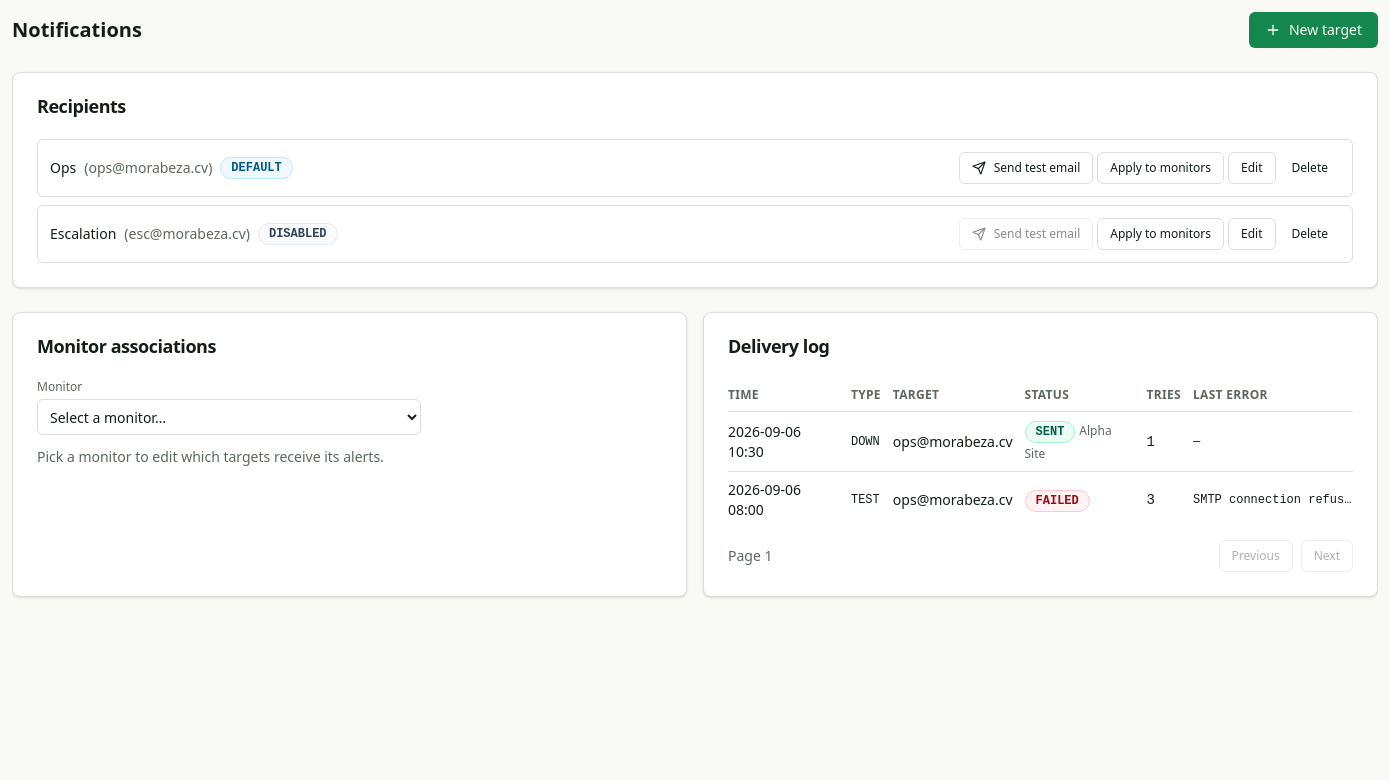
Test: NotificationsPage (PRD §27.9) › send test email POSTs the #17 endpoint and surfaces the queued event
Click the button "Send test email" in the row of "DEFAULT" at (1026, 168), box left=959, top=152, right=1093, bottom=184
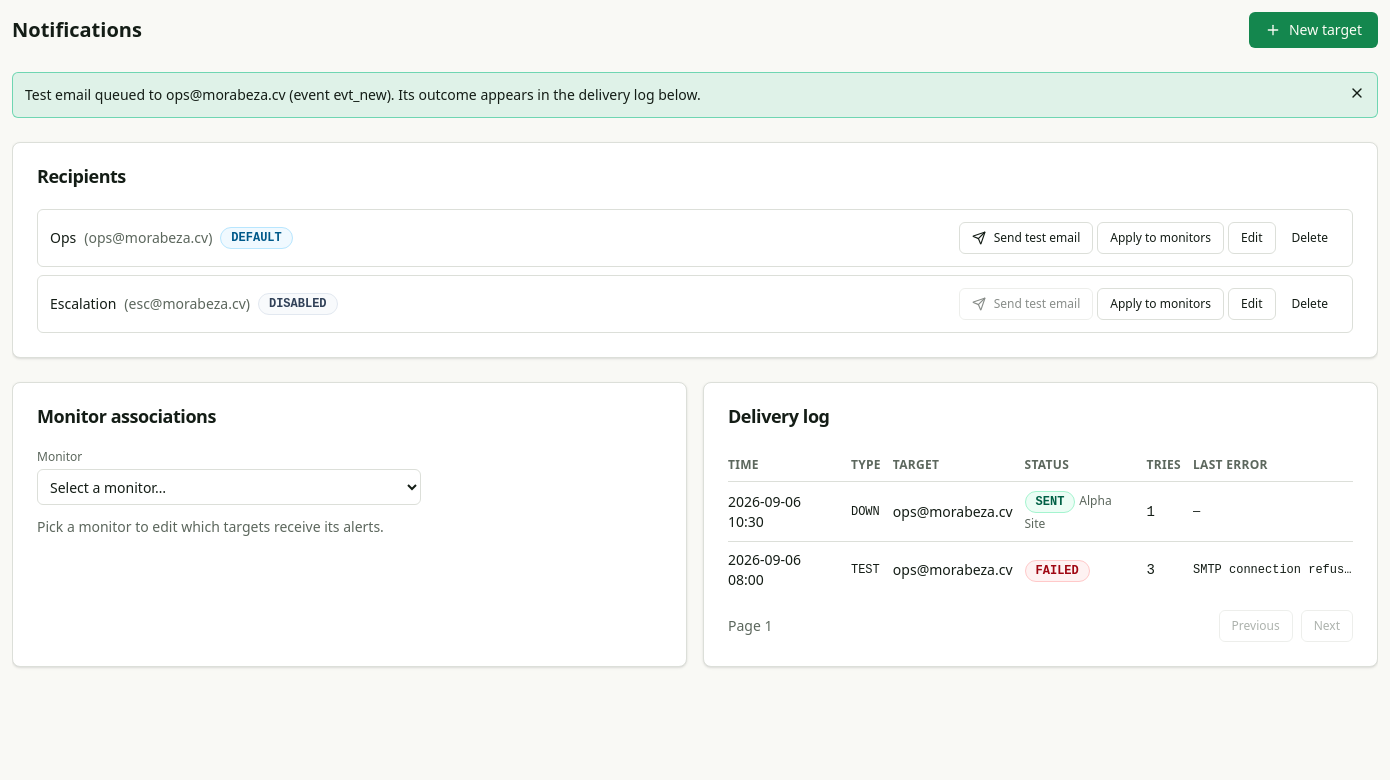
Check: the button "Send test email" in the row of "Escalation" is disabled, box left=959, top=288, right=1093, bottom=320
Check: the message shows "Test email queued to ops@morabeza.cv", box left=25, top=85, right=701, bottom=104
